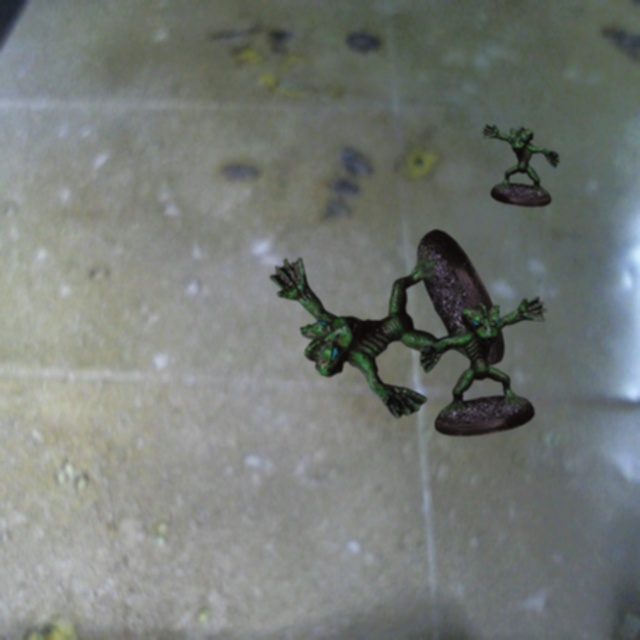pieza_juego: (270, 229, 504, 418), (419, 296, 546, 436), (481, 124, 558, 206)
